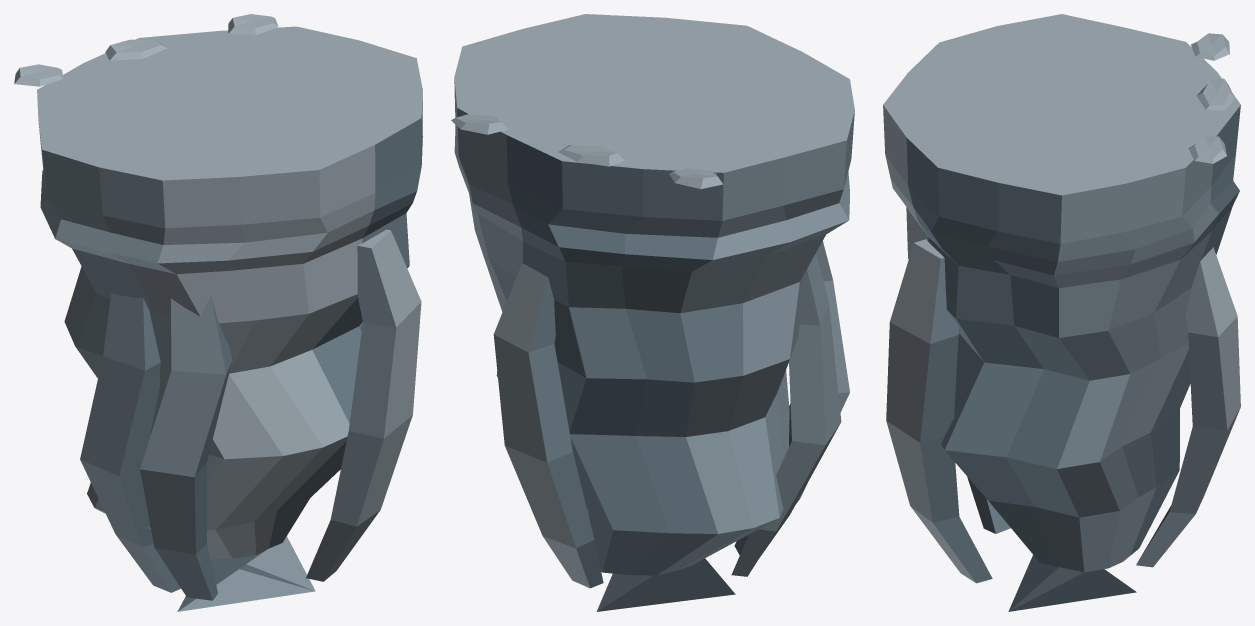
The model's file is geo01_large_cloud_sea_island.glb.
3 views of the same model, side by side, from view 1: azimuth 30°, elevation 25°; view 2: azimuth 150°, elevation 25°; view 3: azimuth 270°, elevation 25° (orthographic). The views are drawn at different scales.
Visible parts, largest first — view 1: GEO01_Island_Large; view 2: GEO01_Island_Large; view 3: GEO01_Island_Large.
Boxes of the visible parts, <box> form: GEO01_Island_Large: <box>14,14,422,611</box>; GEO01_Island_Large: <box>451,14,854,611</box>; GEO01_Island_Large: <box>883,14,1240,611</box>.
Bounding box in the file's own units: 24 × 30 × 20.
